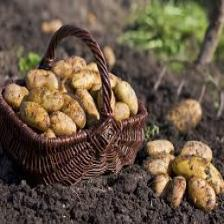Diseased-fungal potato: (175, 156, 223, 194), (165, 97, 199, 127), (60, 93, 90, 126), (190, 178, 218, 210), (25, 66, 58, 91), (22, 101, 50, 129), (46, 110, 77, 135), (118, 82, 140, 116), (30, 90, 63, 111), (164, 176, 185, 207), (2, 84, 30, 107), (71, 68, 98, 90), (146, 139, 175, 157), (153, 174, 172, 195)
